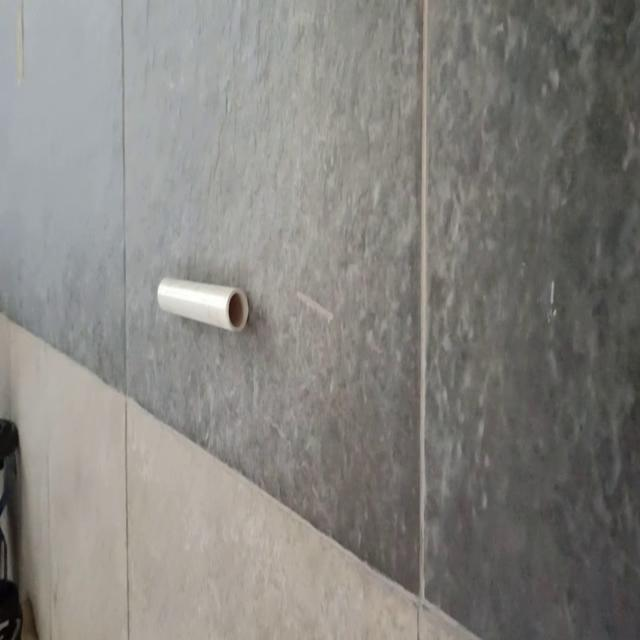Cube: (156, 275, 249, 333)
